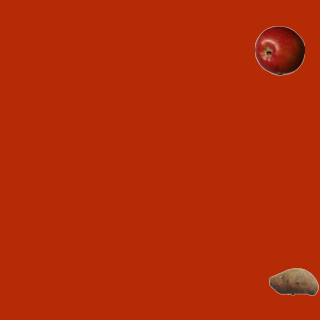Apple Braeburn: (254, 25, 304, 75)
Potato Sweet: (268, 256, 318, 306)
